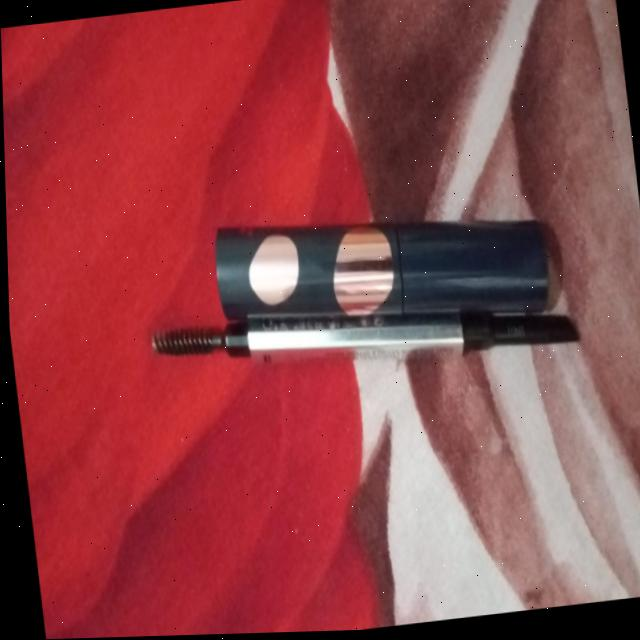mascara: (135, 193, 576, 380)
